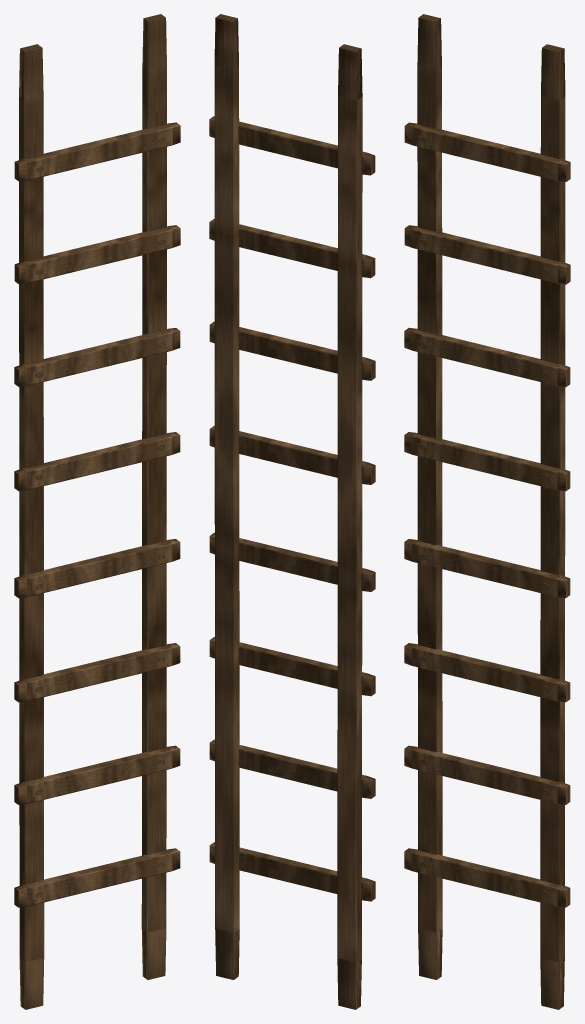
Rendered from Ladder.fbx.
3 renders of one model, left to right at view 1: azimuth 30°, elevation 25°; view 2: azimuth 150°, elevation 25°; view 3: azimuth 330°, elevation 25°, orthographic.
Visible parts, largest first — view 1: ladder; view 2: ladder; view 3: ladder.
Part boxes in pixels (x1,y1,x2,y2): ladder: [14, 14, 180, 1009]; ladder: [209, 14, 375, 1009]; ladder: [404, 14, 570, 1009].
Size of the model in its own units: 74.84 by 422 by 8.14.
Materials: 1 (1 with a texture image).
